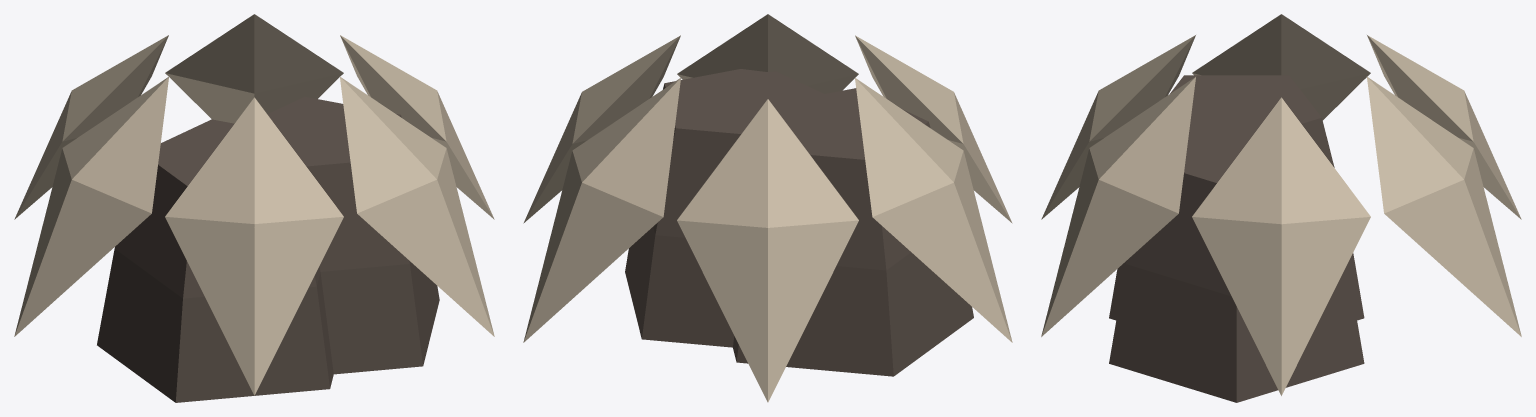
The model's file is stag-long-legs.glb.
The picture shows the model from 3 angles, left to right: view 1: azimuth 30°, elevation 25°; view 2: azimuth 150°, elevation 25°; view 3: azimuth 270°, elevation 25°; orthographic projection.
Parts seen in each view (by area): view 1: long_legs; view 2: long_legs; view 3: long_legs.
Part boxes in pixels (x1,y1,x2,y2): long_legs: (14,14,494,402); long_legs: (523,14,1012,402); long_legs: (1041,14,1521,402).
Size of the model in its own units: 0.124 by 0.066 by 0.1074.
